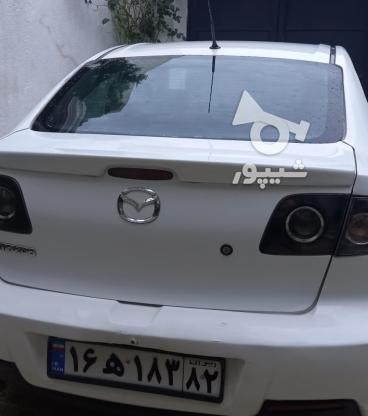car: (48, 335, 224, 403)
